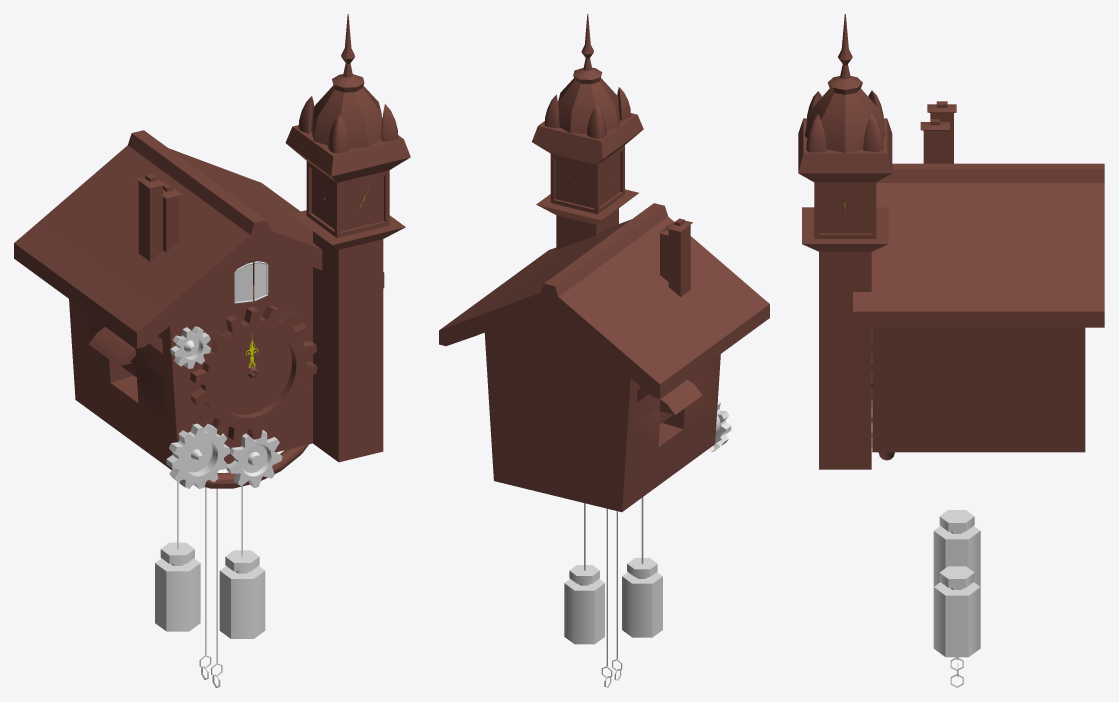
Rendered from cuco2.fbx.
3 renders of one model, left to right at view 1: azimuth 30°, elevation 25°; view 2: azimuth 150°, elevation 25°; view 3: azimuth 270°, elevation 25°, orthographic. The views are drawn at different scales.
Parts seen in each view (by area): view 1: Cube, Gear.001, Gear.003, Plane.010, Plane.009, Gear.004, Circle, Gear.002, Hinge; view 2: Cube, Plane.009, Plane.010, Gear.004; view 3: Cube, Plane.010, Plane.009.
Boxes of the visible parts, x1,y1,x2,y2 form: Cube: (14, 14, 410, 488); Gear.001: (190, 305, 317, 440); Gear.003: (216, 332, 291, 414); Plane.010: (219, 486, 265, 638); Plane.009: (155, 481, 200, 631); Gear.004: (166, 423, 230, 488); Circle: (226, 430, 282, 487); Gear.002: (170, 326, 211, 368); Hinge: (234, 262, 252, 303); Cube: (439, 14, 769, 512); Plane.009: (622, 497, 662, 637); Plane.010: (564, 503, 604, 644); Gear.004: (708, 401, 731, 452); Cube: (798, 14, 1104, 469); Plane.010: (933, 566, 980, 657); Plane.009: (933, 510, 980, 586).
Size of the model in its own units: 152 by 407 by 159.
